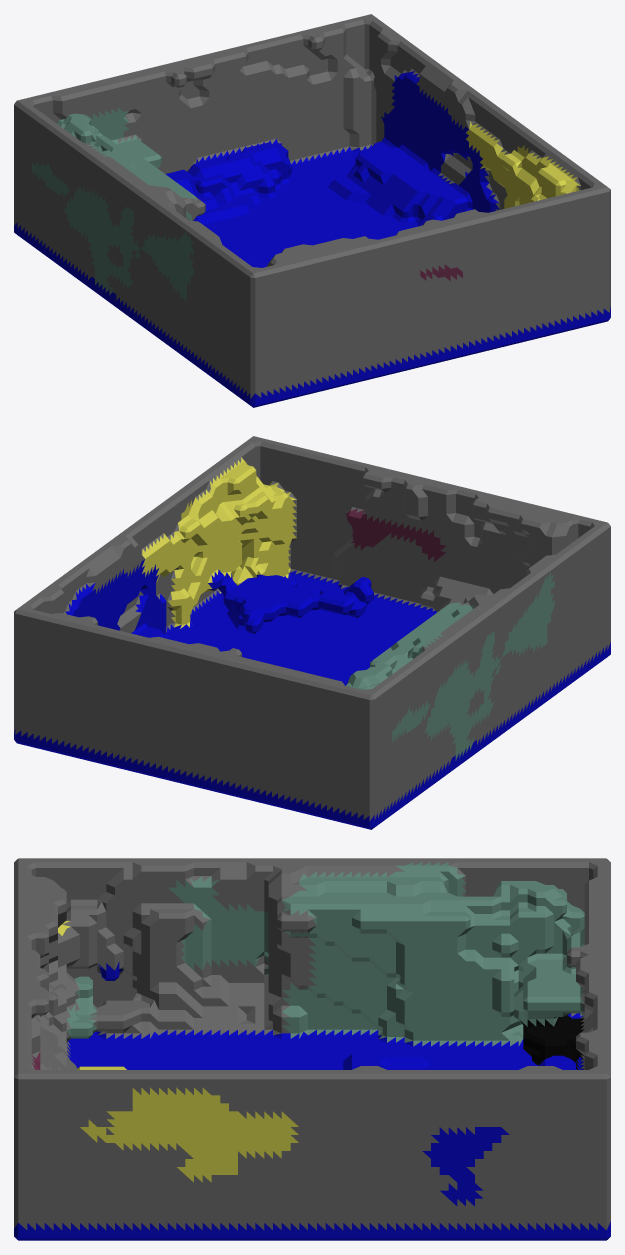
The picture shows the model from 3 angles, top to bottom: view 1: azimuth 30°, elevation 25°; view 2: azimuth 150°, elevation 25°; view 3: azimuth 270°, elevation 25°; orthographic projection. The views are drawn at different scales.
Visible parts, largest first — view 1: Input_prediction_mesh_mat1, Input_prediction_mesh_mat0, Input_prediction_mesh_mat2, Input_prediction_mesh_mat3; view 2: Input_prediction_mesh_mat1, Input_prediction_mesh_mat0, Input_prediction_mesh_mat3, Input_prediction_mesh_mat2, Input_prediction_mesh_mat5; view 3: Input_prediction_mesh_mat1, Input_prediction_mesh_mat2, Input_prediction_mesh_mat0, Input_prediction_mesh_mat3, Input_prediction_mesh_mat4.
Boxes of the visible parts, box(x1,y1,x2,y2) form: Input_prediction_mesh_mat1: box(14, 14, 610, 398); Input_prediction_mesh_mat0: box(14, 71, 610, 407); Input_prediction_mesh_mat2: box(31, 107, 196, 300); Input_prediction_mesh_mat3: box(466, 121, 580, 208); Input_prediction_mesh_mat1: box(14, 436, 610, 821); Input_prediction_mesh_mat0: box(14, 559, 610, 829); Input_prediction_mesh_mat3: box(142, 457, 296, 628); Input_prediction_mesh_mat2: box(346, 571, 554, 760); Input_prediction_mesh_mat5: box(346, 508, 445, 561); Input_prediction_mesh_mat1: box(14, 858, 610, 1230); Input_prediction_mesh_mat2: box(67, 862, 584, 1046); Input_prediction_mesh_mat0: box(14, 961, 610, 1240); Input_prediction_mesh_mat3: box(58, 921, 298, 1182); Input_prediction_mesh_mat4: box(519, 1015, 584, 1069).
Size of the model in its own units: 4.72 by 1.68 by 5.44.
